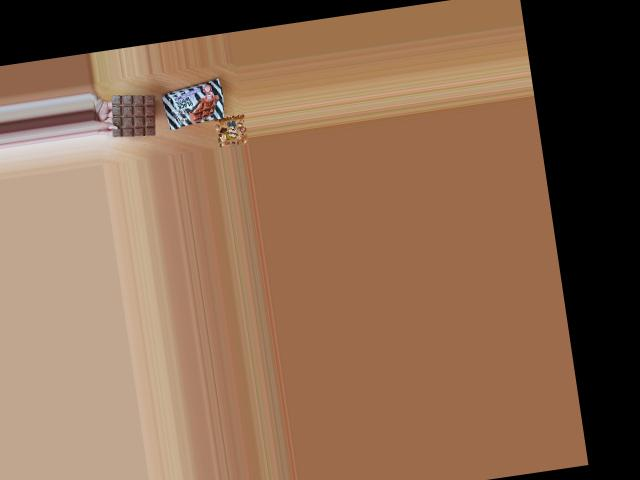chocolate: (158, 78, 229, 129)
